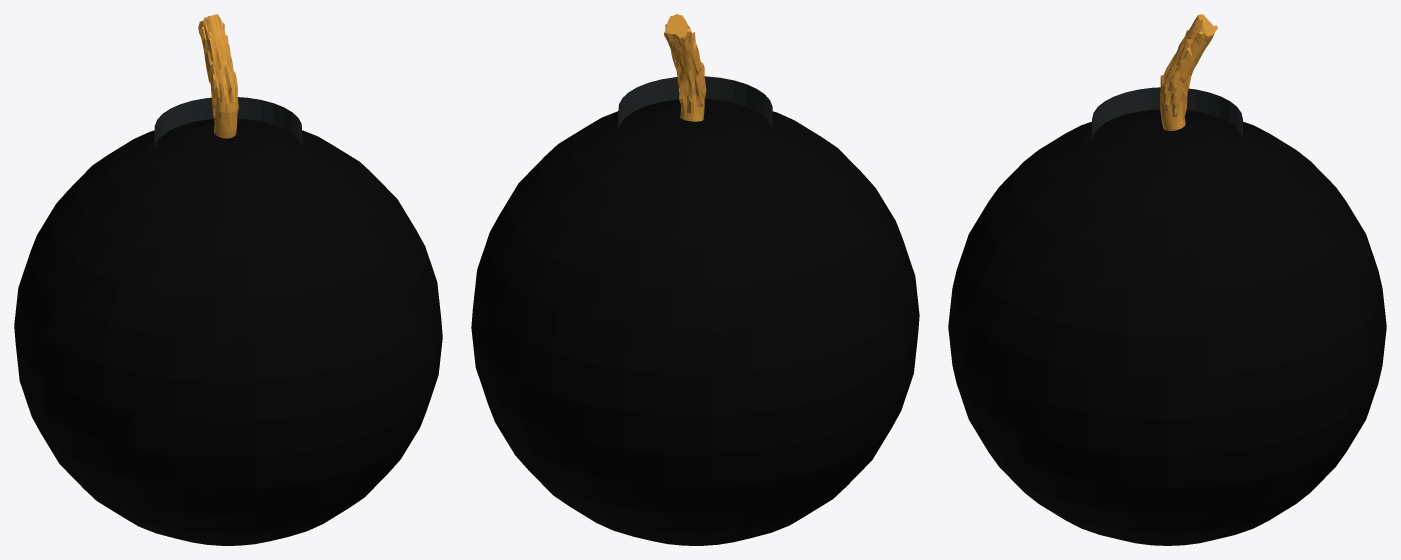
Rendered from bomba.fbx.
The picture shows the model from 3 angles, left to right: view 1: azimuth 30°, elevation 25°; view 2: azimuth 150°, elevation 25°; view 3: azimuth 270°, elevation 25°; orthographic projection. The views are drawn at different scales.
Parts seen in each view (by area): view 1: Sphere; view 2: Sphere; view 3: Sphere.
Boxes of the visible parts, left/top/right/bottom form: Sphere: left=14, top=14, right=442, bottom=545; Sphere: left=471, top=14, right=919, bottom=545; Sphere: left=948, top=14, right=1386, bottom=545.
Size of the model in its own units: 200 by 257 by 200.
